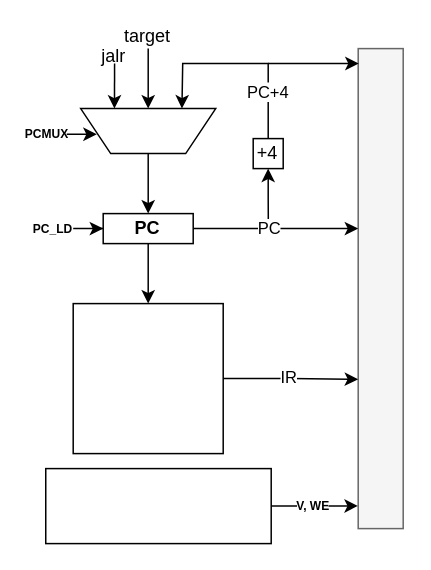
This 431x570 diagram has some shape labels left out. The shapes that lost their labels are listed below. From the top down, each one's centre as x and y in pixels, then its label:
At (x=147, y=378): "I-CACHE".
At (x=157, y=505): "FLUSH/STALL/ BUBBLE LOGIC".
